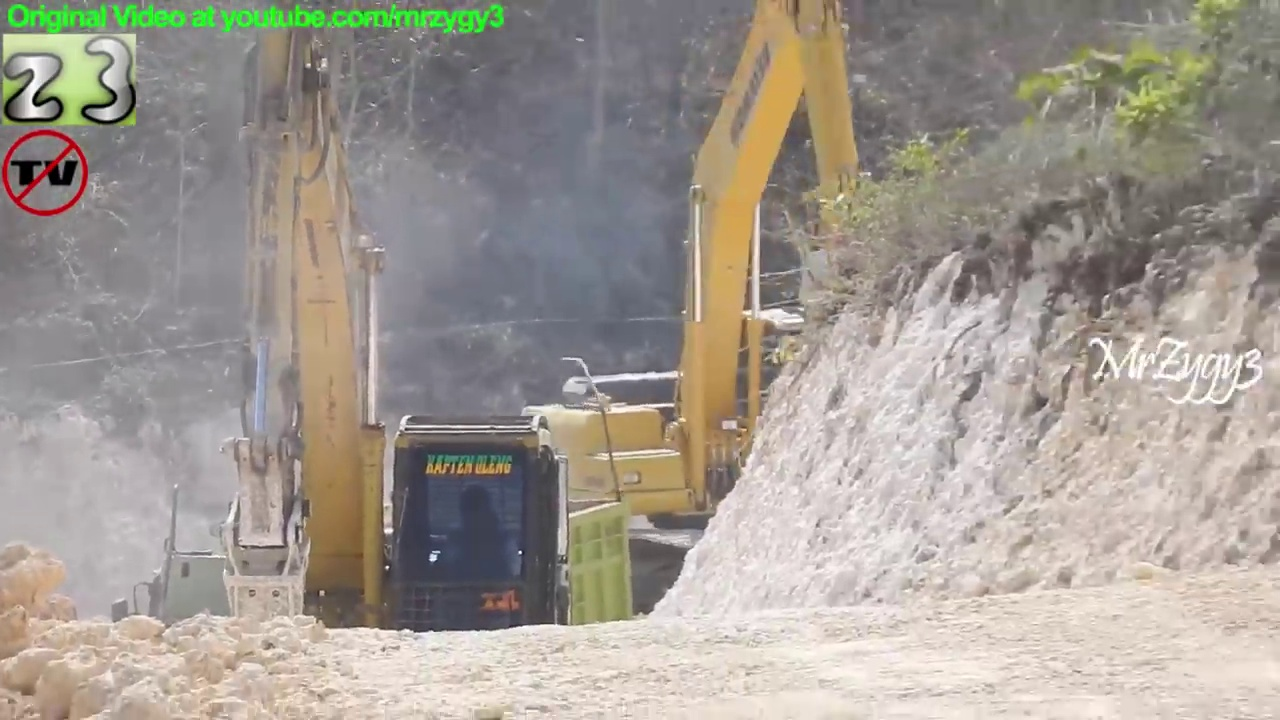excavator: (207, 1, 588, 720), (510, 1, 917, 655)
truck: (233, 483, 643, 705)
